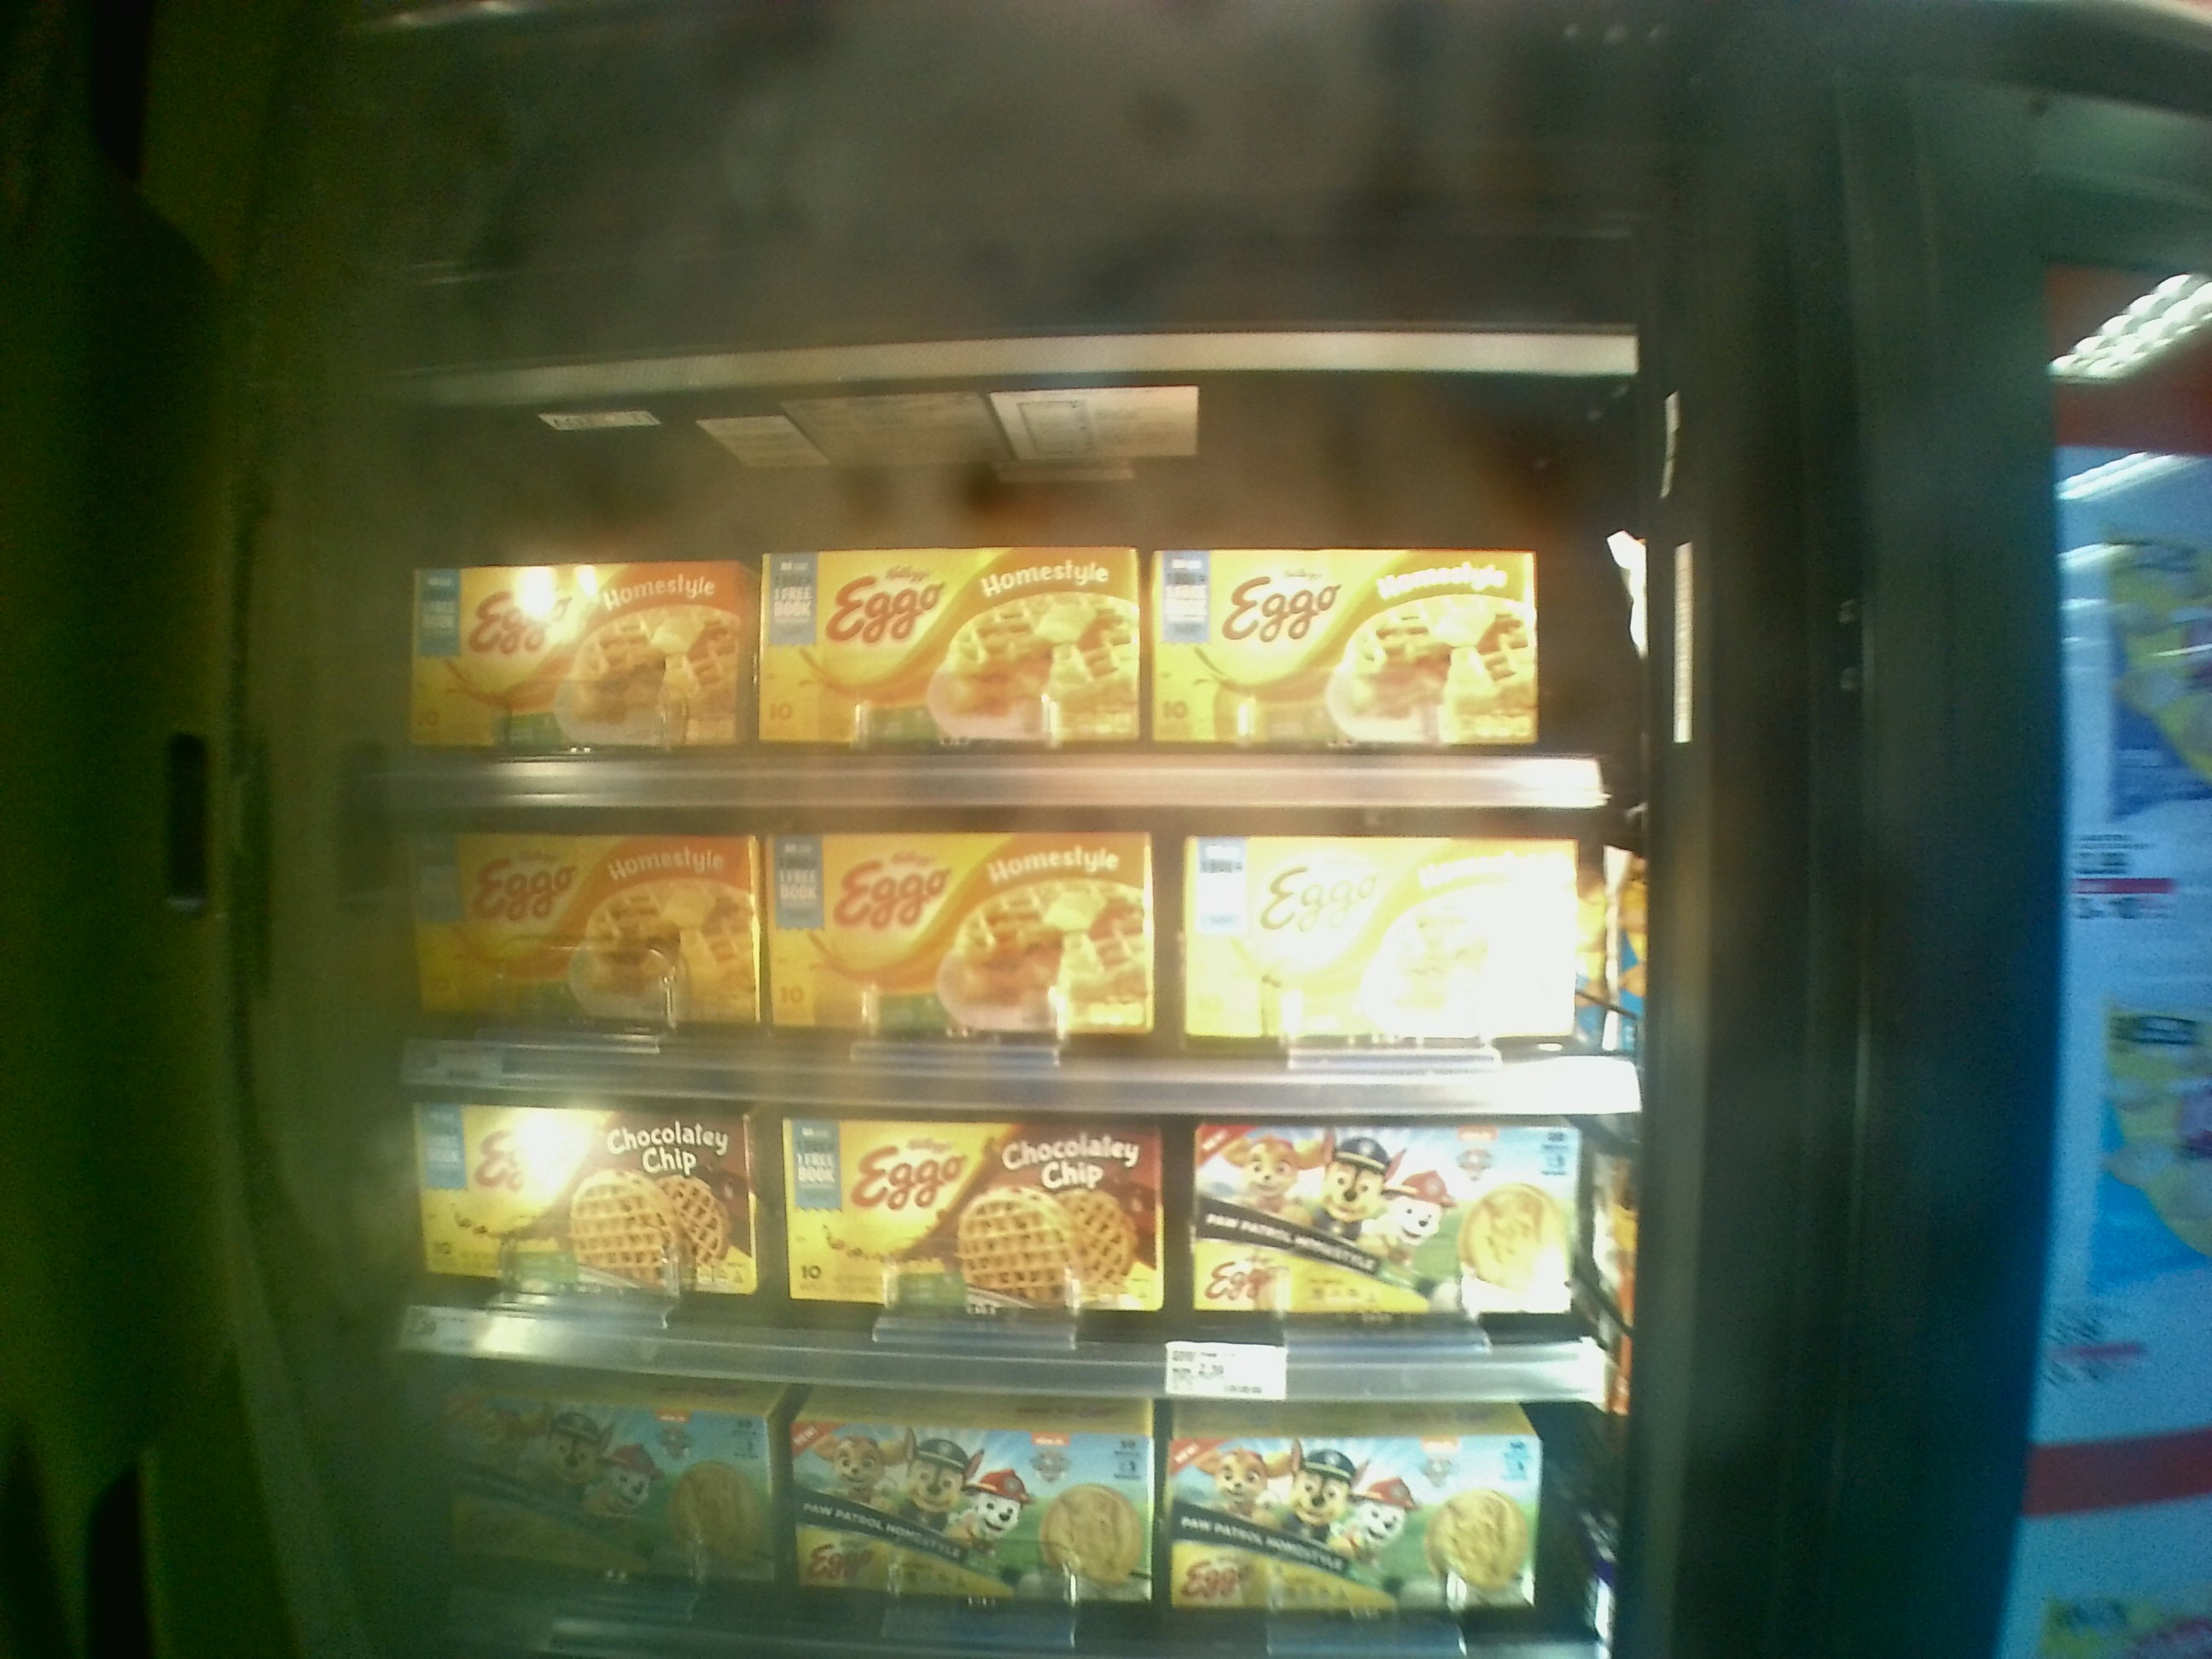shelf: (359, 352, 1611, 809)
